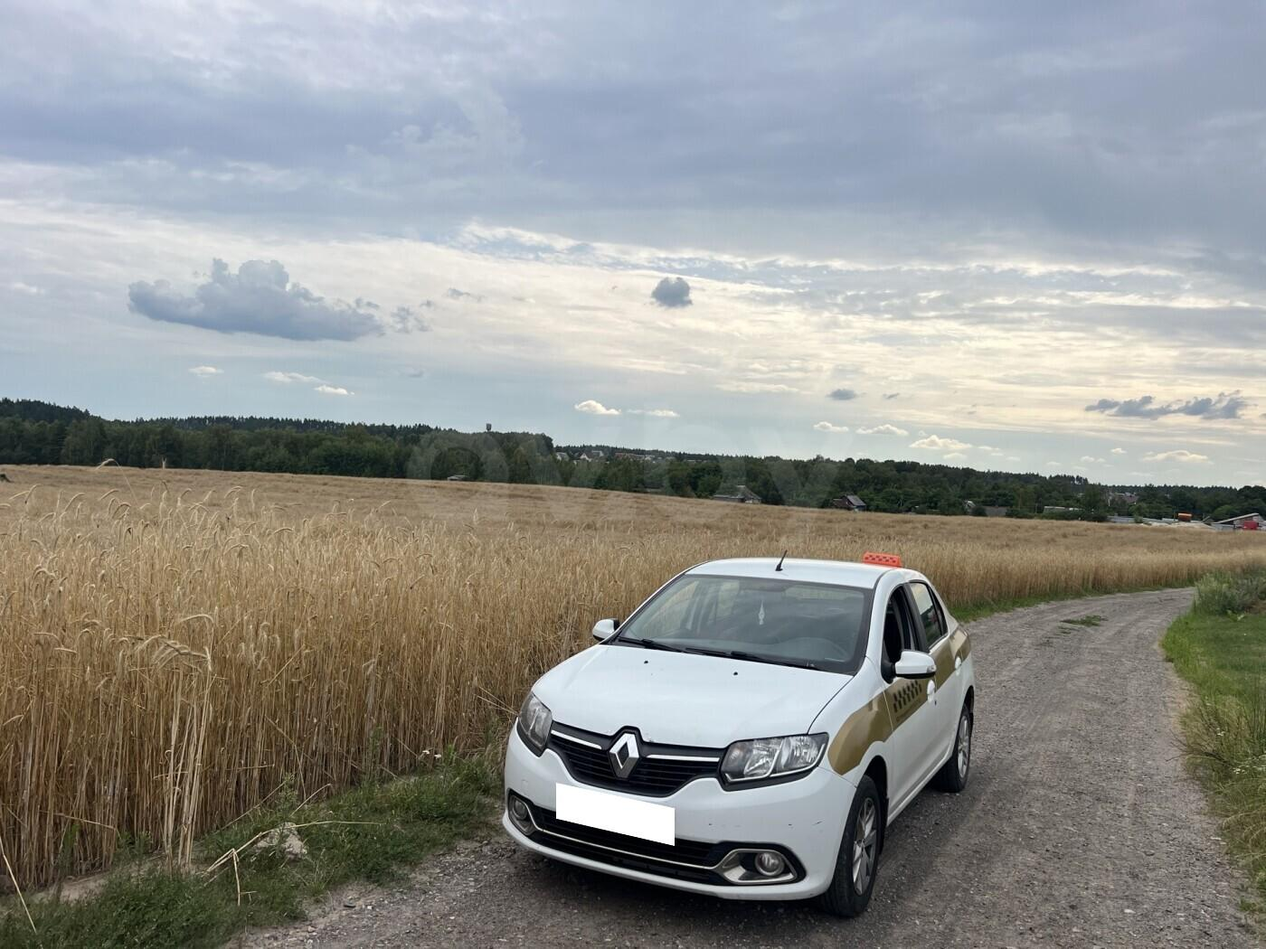Logan_2013-2018: (500, 537, 981, 924)
